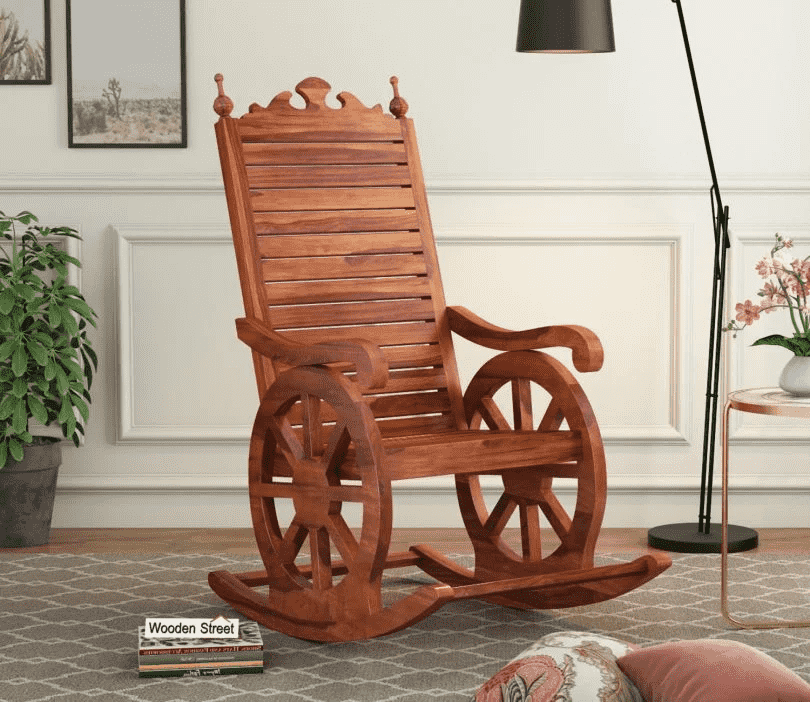chair: (204, 65, 674, 622)
